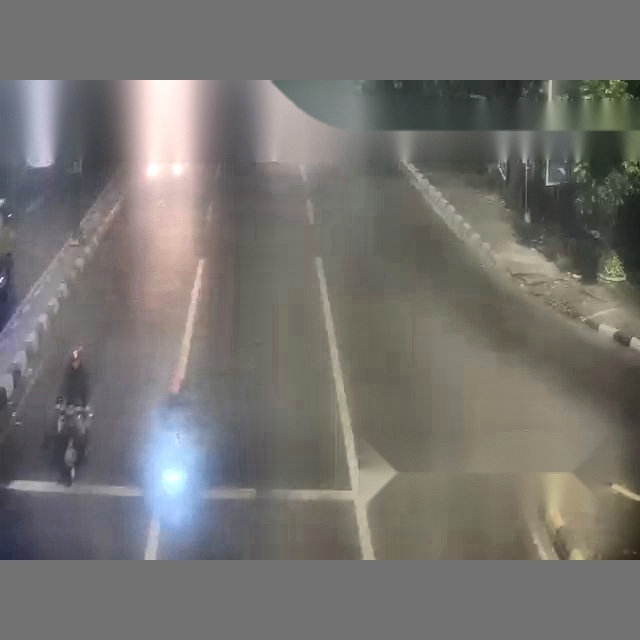Motor: (55, 404, 90, 484)
Truk: (192, 79, 640, 558)
